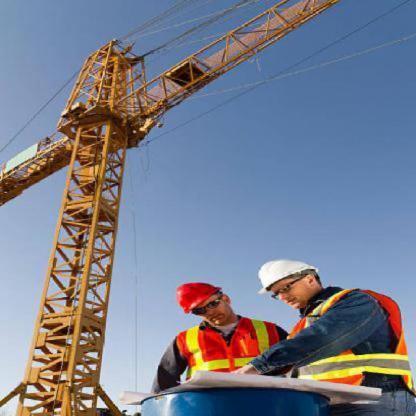person: (246, 254, 416, 409), (139, 270, 290, 382)
red-helm: (174, 277, 224, 315)
vest-helm: (288, 288, 413, 394), (171, 320, 283, 373)
white-helm: (250, 255, 322, 291)
